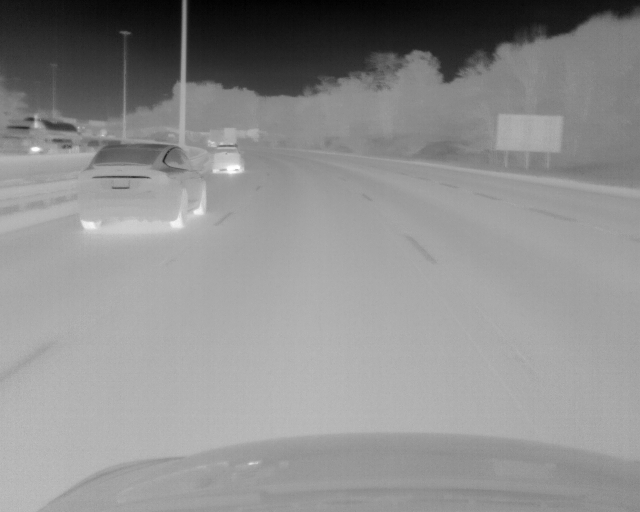car: (78, 143, 207, 229), (211, 145, 242, 172)
